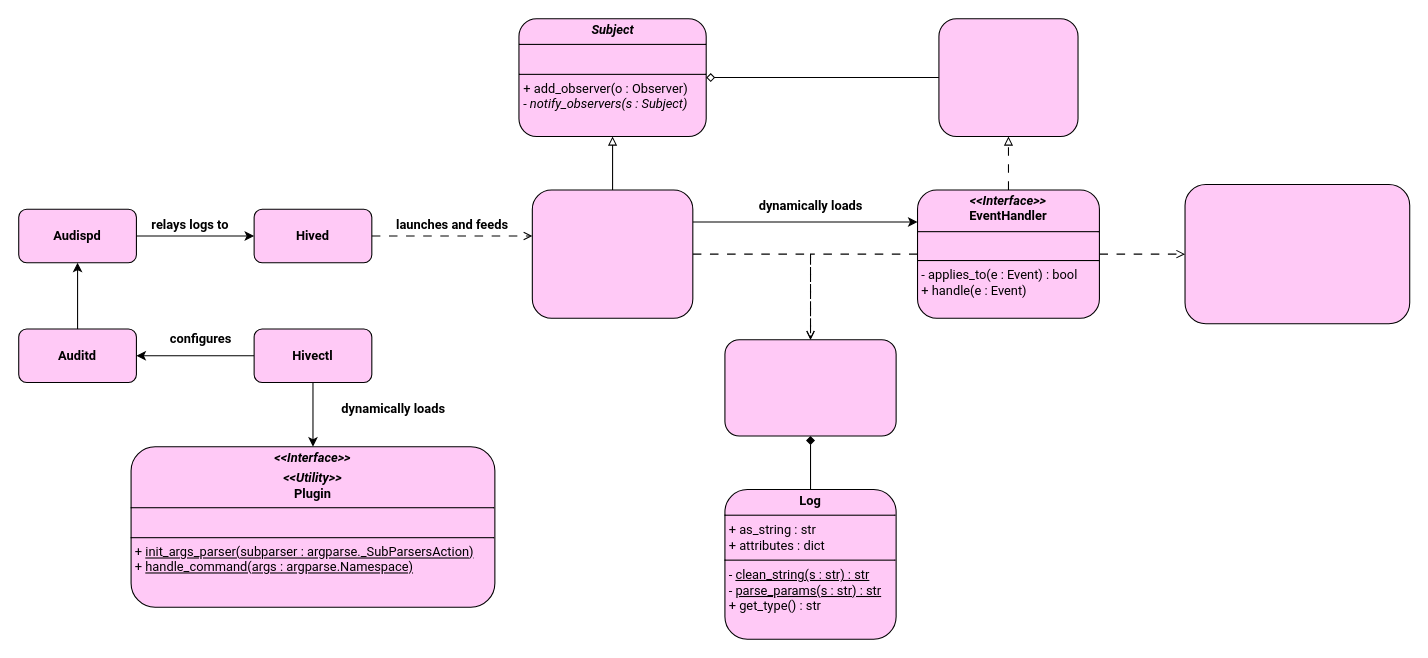
The diagram is 1428 pixels wide and 658 high, and some of its shapes have lost their labels. Here are the shapes that lost their labels. From the top down, the centre of each, then its label:
At pixel 1008 77: "<<Interface>> Observer + handle(s : Subject)".
At pixel 612 253: "AudispdListener - load_event_handlers() + listen()".
At pixel 1297 254: "<<Interface>> <<Utility>> Notifier + notify(sender : str, message : str)".
At pixel 810 387: "Event".
